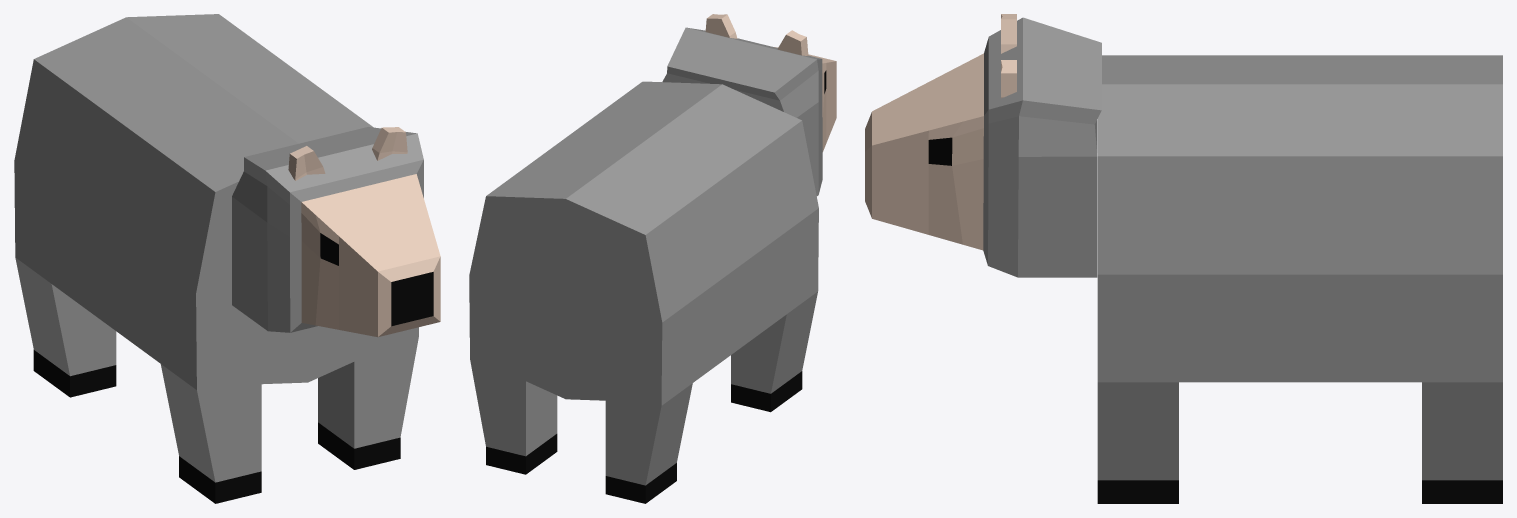
File: sheep.fbx
3 views of the same model, side by side, from view 1: azimuth 30°, elevation 25°; view 2: azimuth 150°, elevation 25°; view 3: azimuth 270°, elevation 25° (orthographic). The views are drawn at different scales.
Parts seen in each view (by area): view 1: Cube, Cube.001; view 2: Cube, Cube.001; view 3: Cube, Cube.001.
Part boxes in pixels (bbox=[...]): Cube: bbox=[14, 14, 418, 503]; Cube.001: bbox=[232, 127, 440, 337]; Cube: bbox=[469, 81, 818, 503]; Cube.001: bbox=[662, 14, 836, 196]; Cube: bbox=[1097, 55, 1502, 503]; Cube.001: bbox=[865, 14, 1101, 277].
Bounding box in the file's own units: 176 × 279 × 390.
